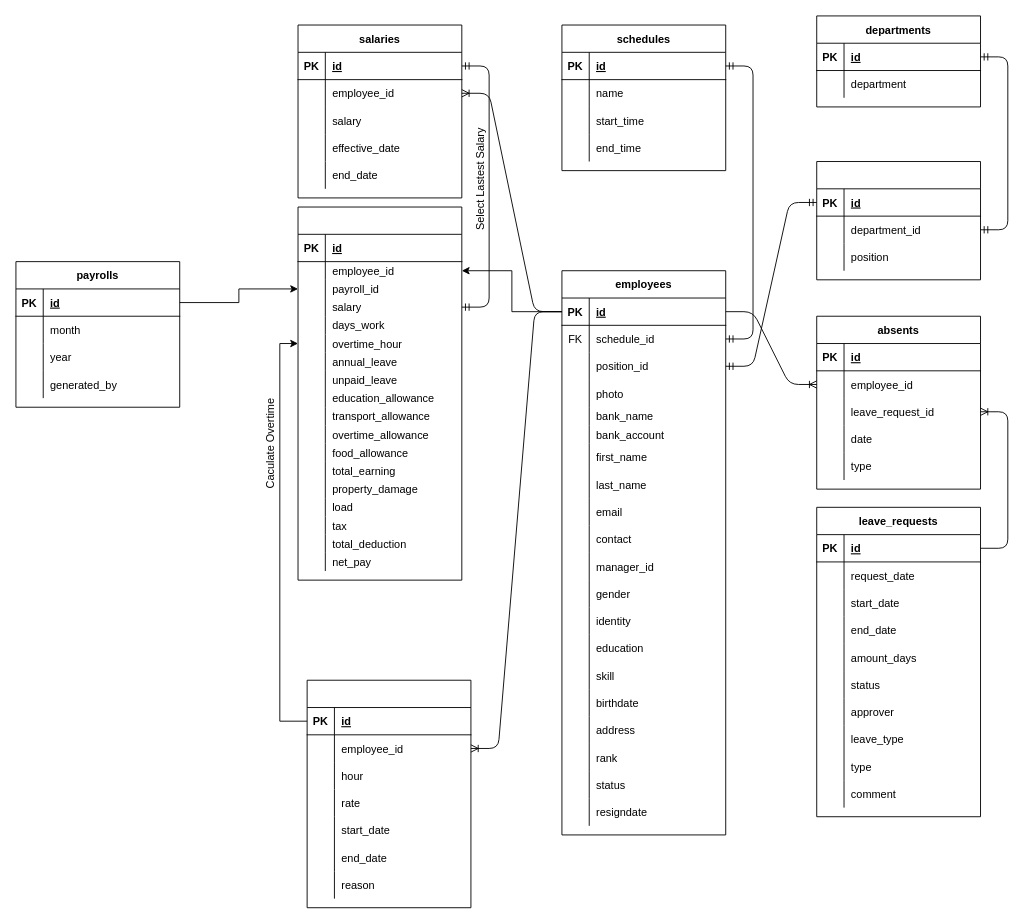
This 1032x923 diagram has some shape labels left out. The box of each missing label's shape, as (x1, y1, x2, y2) in pixels:
overtimes: (306, 679, 471, 908)
payroll_details: (297, 206, 462, 580)
positions: (816, 161, 981, 280)
